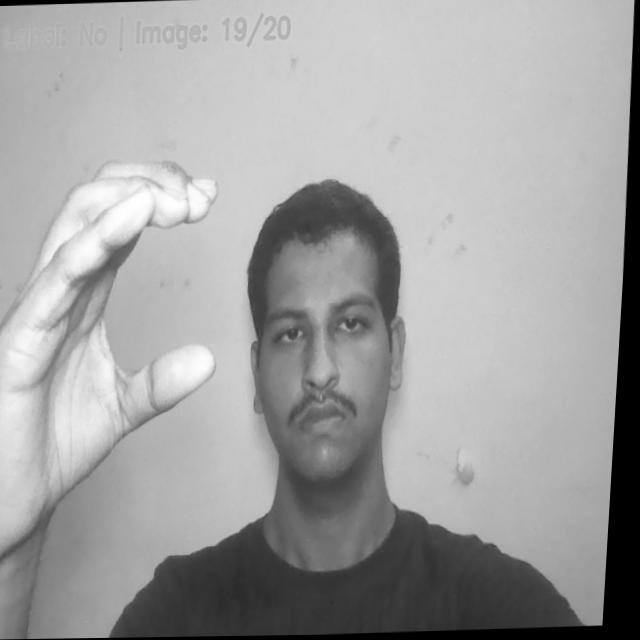No: (0, 151, 228, 561)
